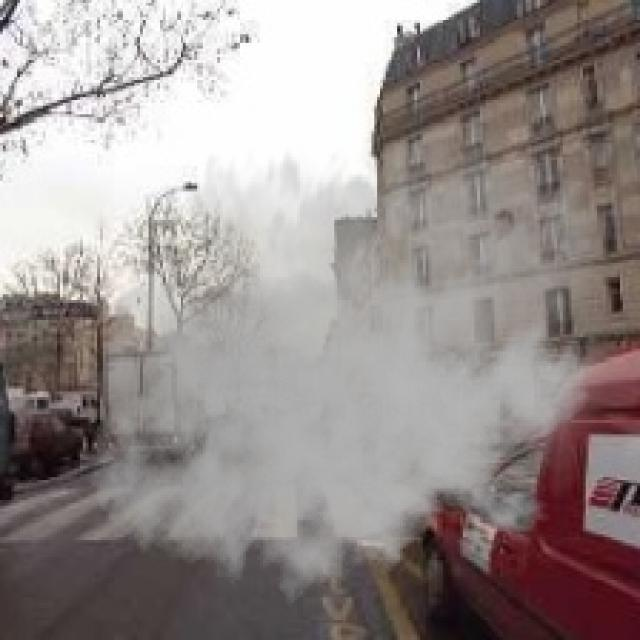Smoke: (88, 91, 638, 623)
